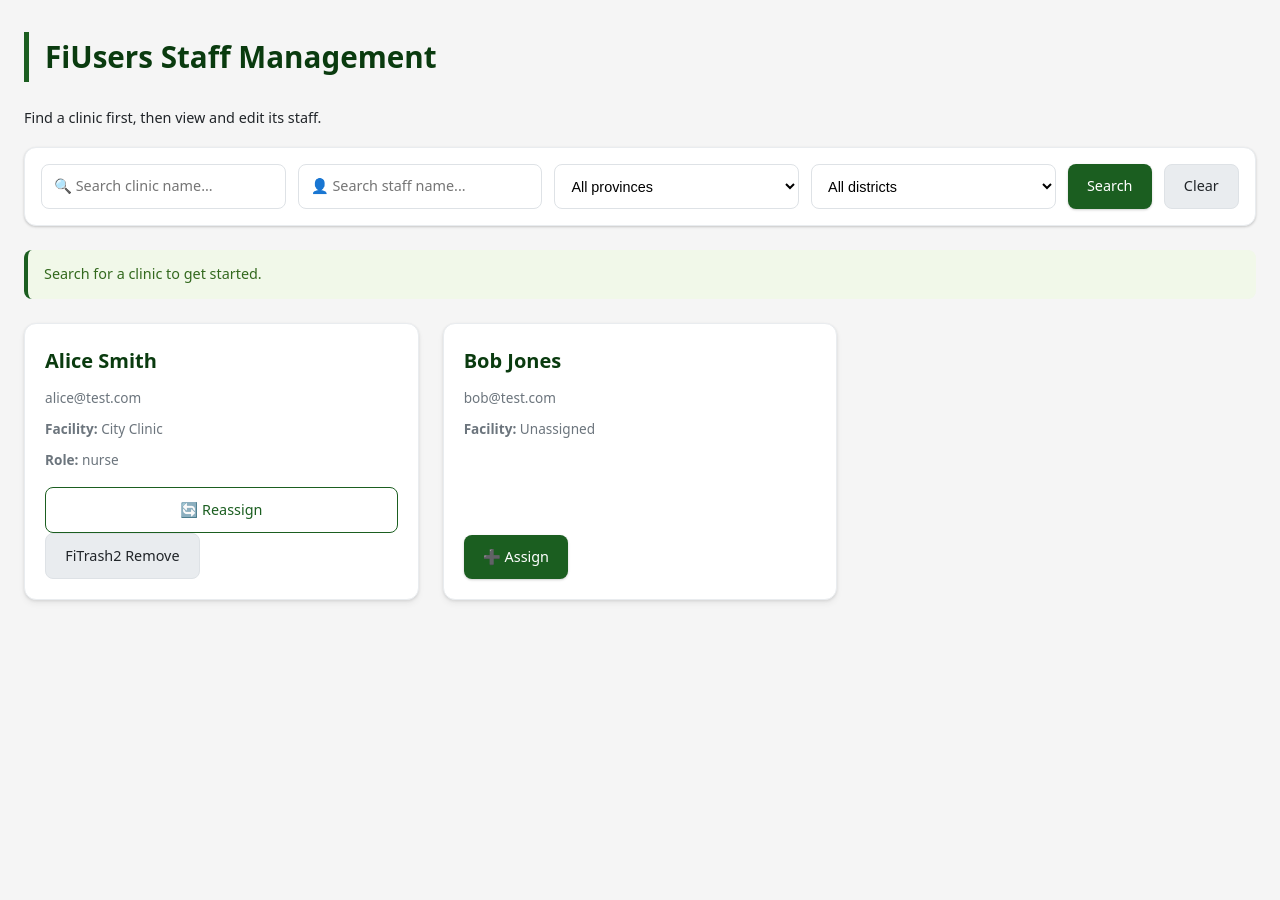
Test: AdminStaff › shows saving state while assignment is being saved
The image size is (1280, 900).
Click the button "➕ Assign" at (516, 557), box [464,535,568,579]
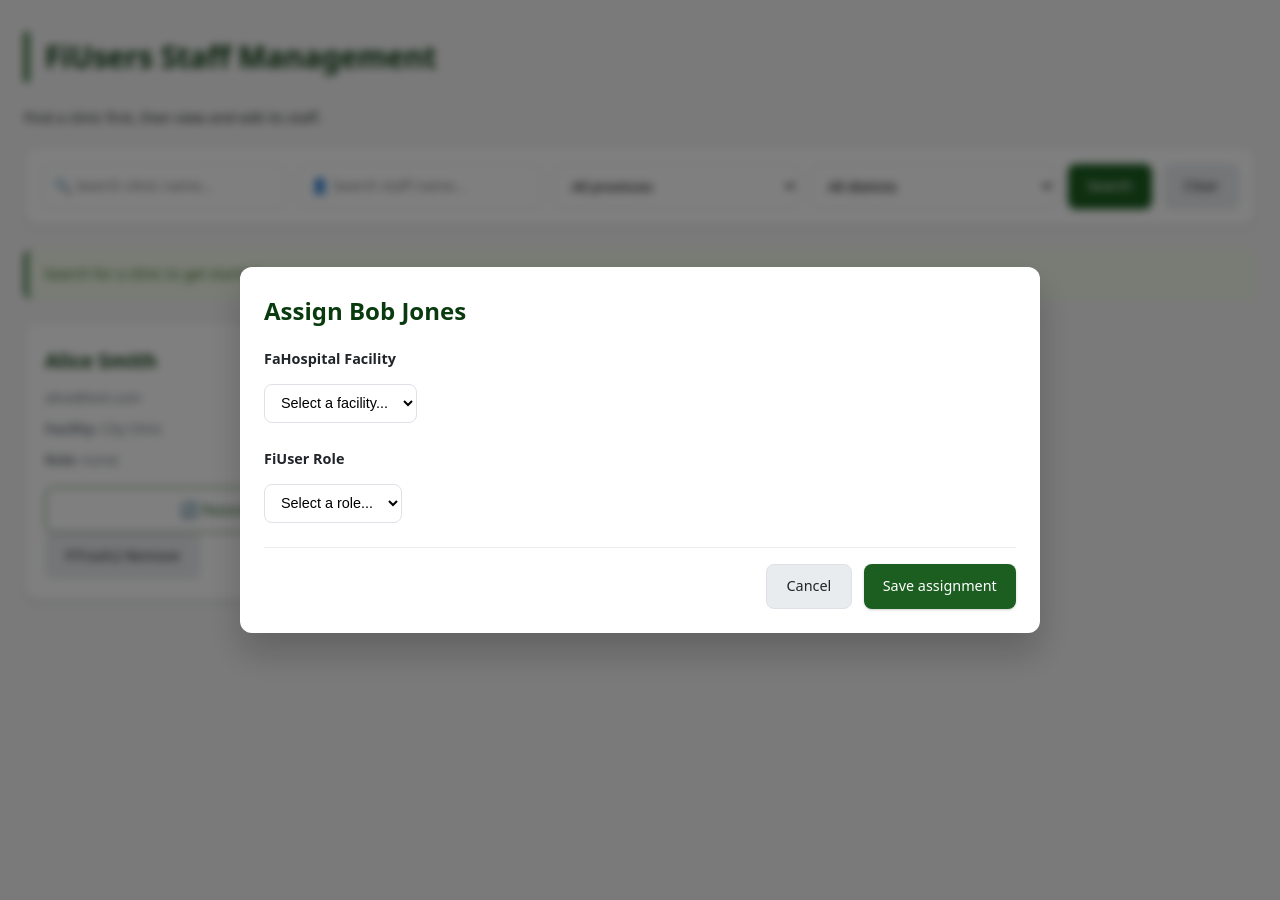
Select "City Clinic" in the dropdown below "FaHospital" at (340, 404), box [264,384,417,423]
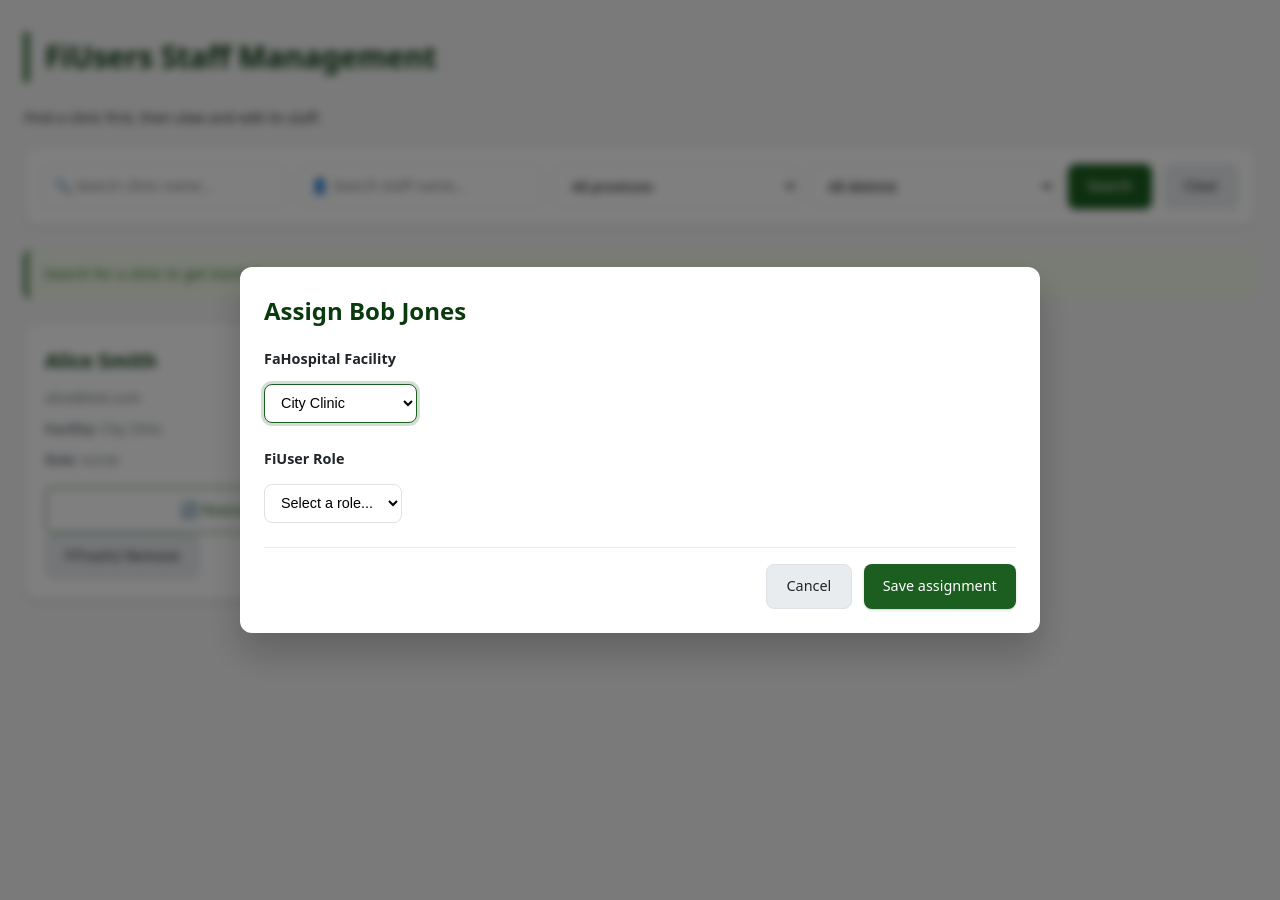
Select "Doctor" in the 2nd dropdown at (333, 503), box [264,484,402,523]
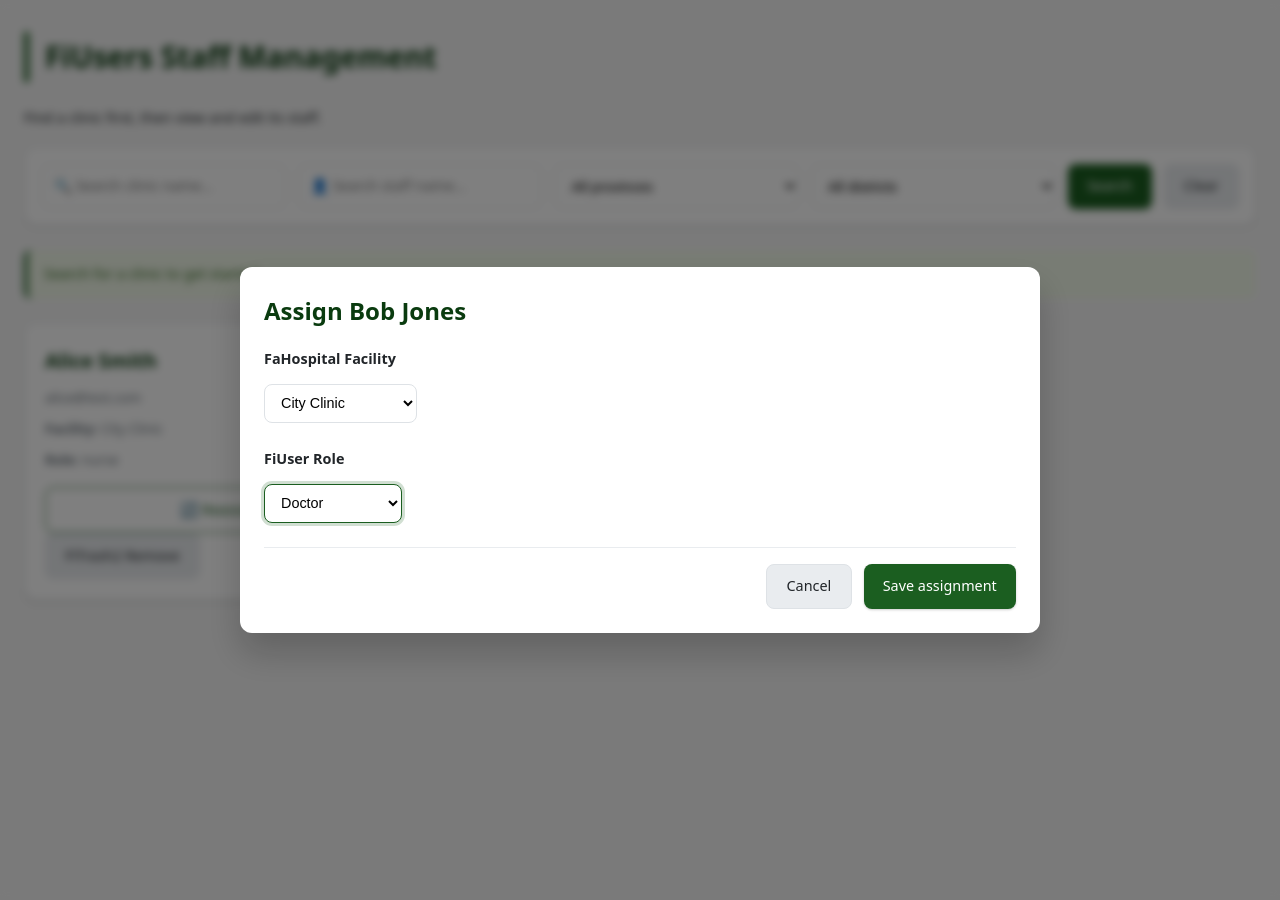
Click the button "Save assignment" at (940, 587), box [864,564,1016,609]
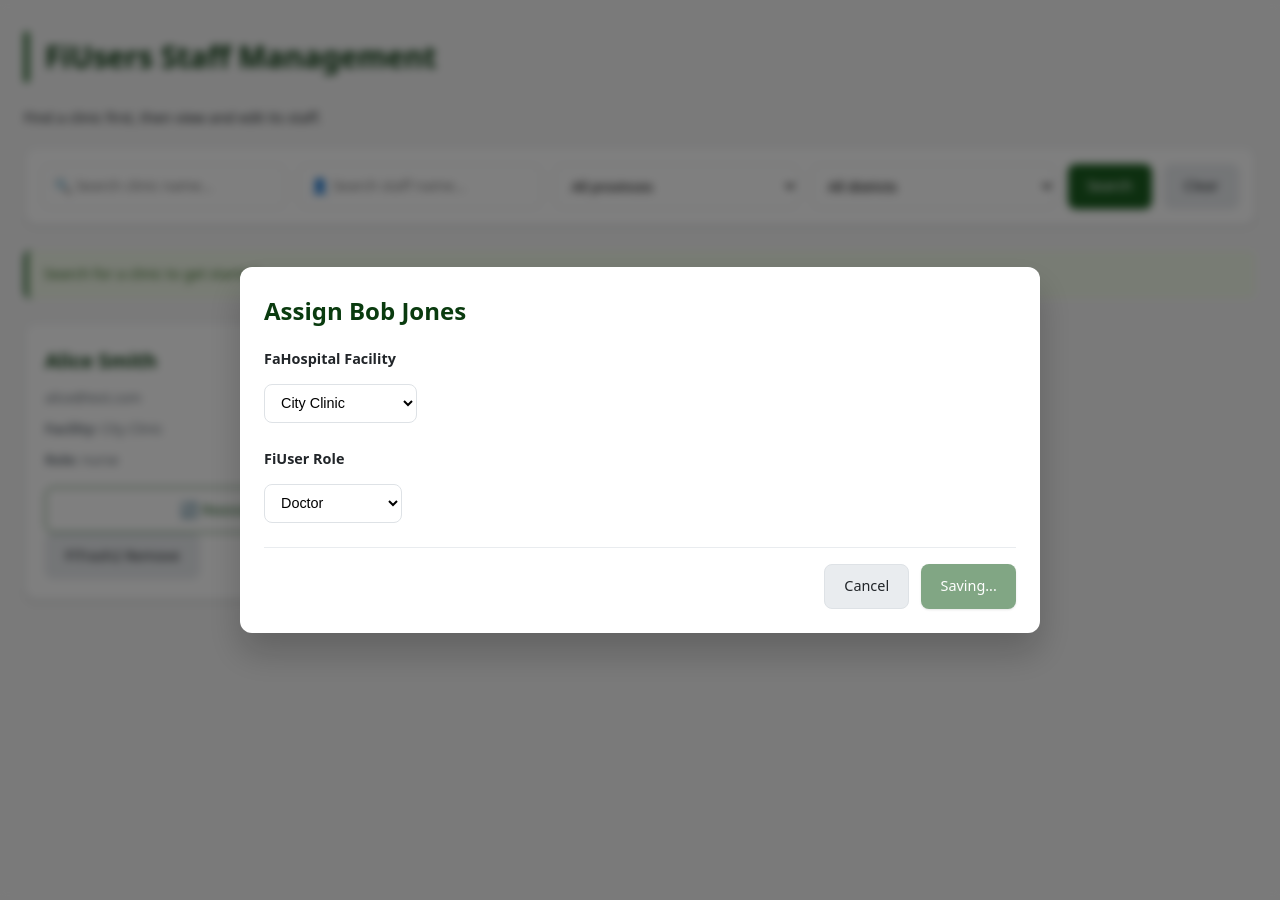
Check: the button "Saving..." is shown, box [921,564,1016,609]
